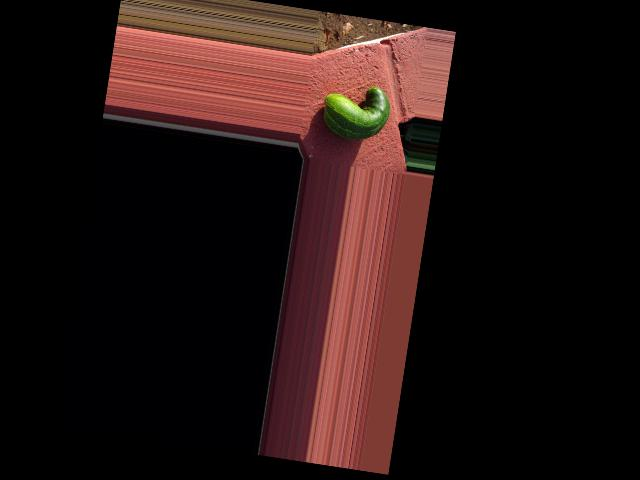cucumber: (319, 78, 393, 144)
